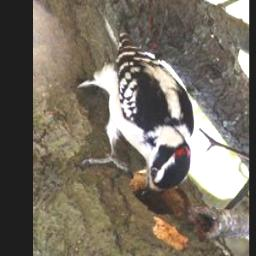Woodpecker: (77, 22, 194, 198)
